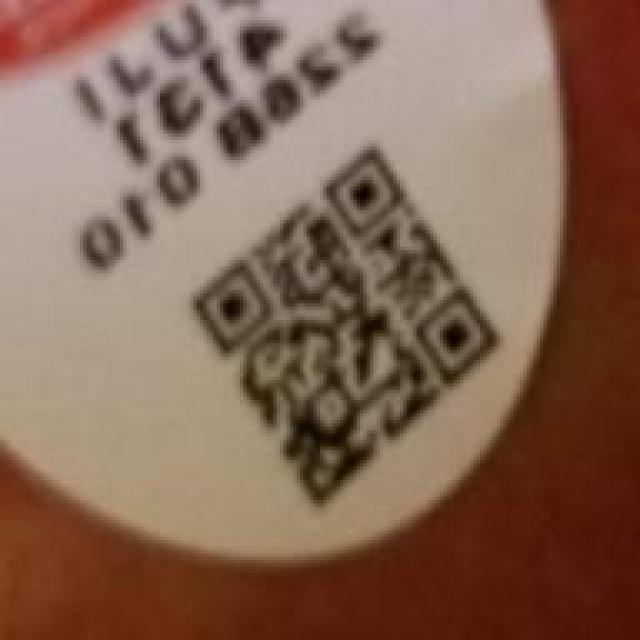QR_CODE: (148, 120, 520, 527)
